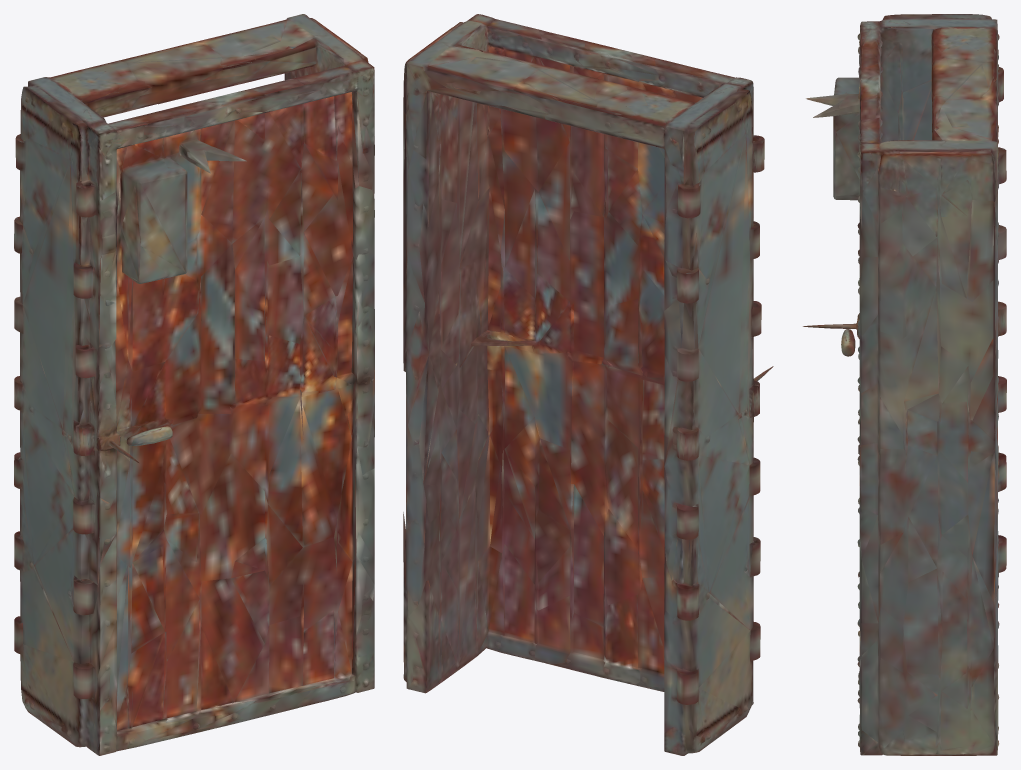
The model's file is bb_door_metal.253ca074cf.glb.
3 renders of one model, left to right at view 1: azimuth 30°, elevation 25°; view 2: azimuth 150°, elevation 25°; view 3: azimuth 270°, elevation 25°, orthographic. The views are drawn at different scales.
Parts seen in each view (by area): view 1: bb_door_metal; view 2: bb_door_metal; view 3: bb_door_metal.
Boxes of the visible parts, x1,y1,x2,y2 form: bb_door_metal: (14,14,374,755); bb_door_metal: (403,14,773,755); bb_door_metal: (803,14,1006,755).
Bounding box in the file's own units: 0.9426 × 1.9 × 0.5784.
1 material, 1 textured.
